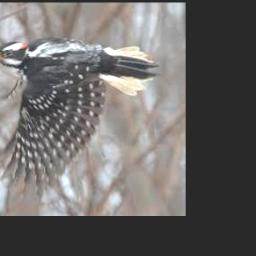Woodpecker: (0, 36, 159, 195)
